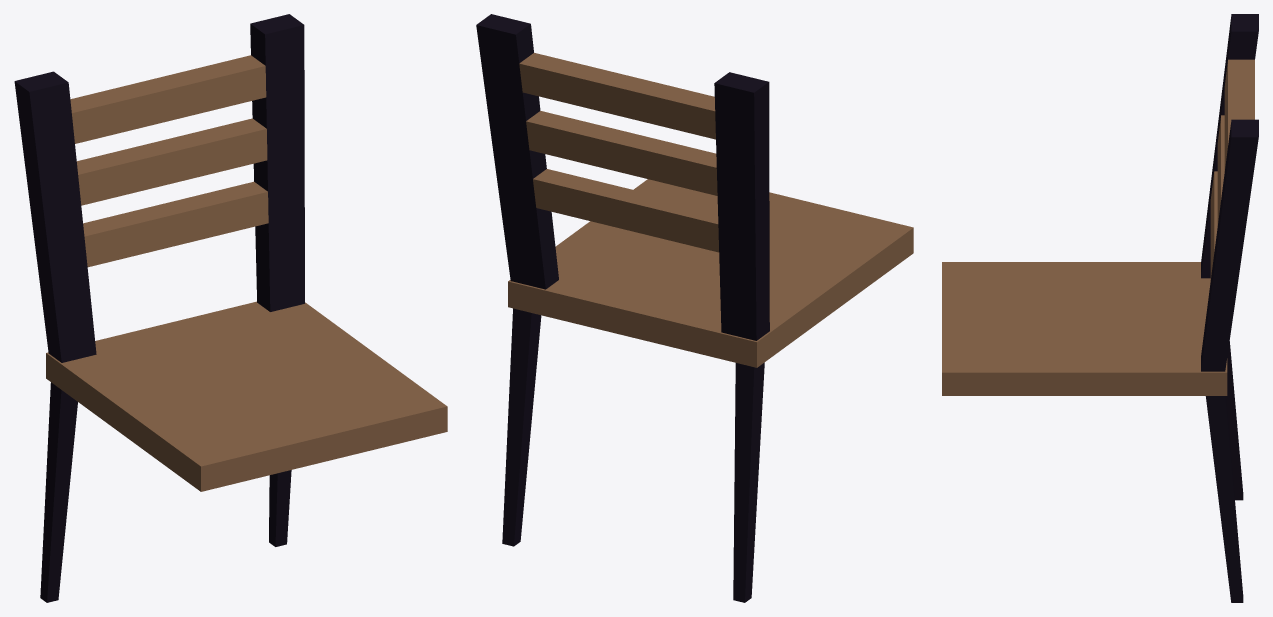
The model's file is Dining_ChairBroken.fbx.
The picture shows the model from 3 angles, left to right: view 1: azimuth 30°, elevation 25°; view 2: azimuth 150°, elevation 25°; view 3: azimuth 270°, elevation 25°; orthographic projection. The views are drawn at different scales.
Visible parts, largest first — view 1: ChairBroken; view 2: ChairBroken; view 3: ChairBroken.
Boxes of the visible parts, bbox=[...] form: ChairBroken: bbox=[14, 14, 447, 602]; ChairBroken: bbox=[476, 14, 913, 602]; ChairBroken: bbox=[942, 14, 1258, 602].
Size of the model in its own units: 115 by 125 by 206.
